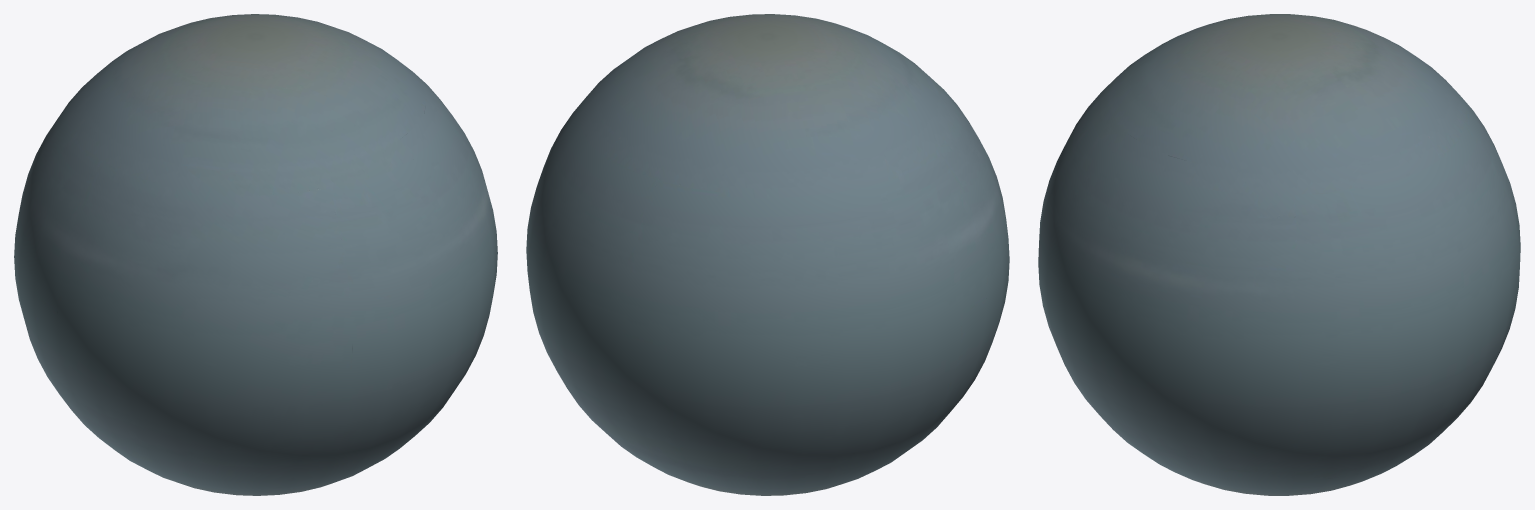
File: uranus.obj
The picture shows the model from 3 angles, left to right: view 1: azimuth 30°, elevation 25°; view 2: azimuth 150°, elevation 25°; view 3: azimuth 270°, elevation 25°; orthographic projection.
Parts seen in each view (by area): view 1: Uranus.001_Sphere.006; view 2: Uranus.001_Sphere.006; view 3: Uranus.001_Sphere.006.
Boxes of the visible parts, x1,y1,x2,y2 form: Uranus.001_Sphere.006: (14,14,497,495); Uranus.001_Sphere.006: (526,14,1009,495); Uranus.001_Sphere.006: (1038,14,1520,495).
Size of the model in its own units: 2.56 by 2.56 by 2.56.
1 material, 1 textured.
